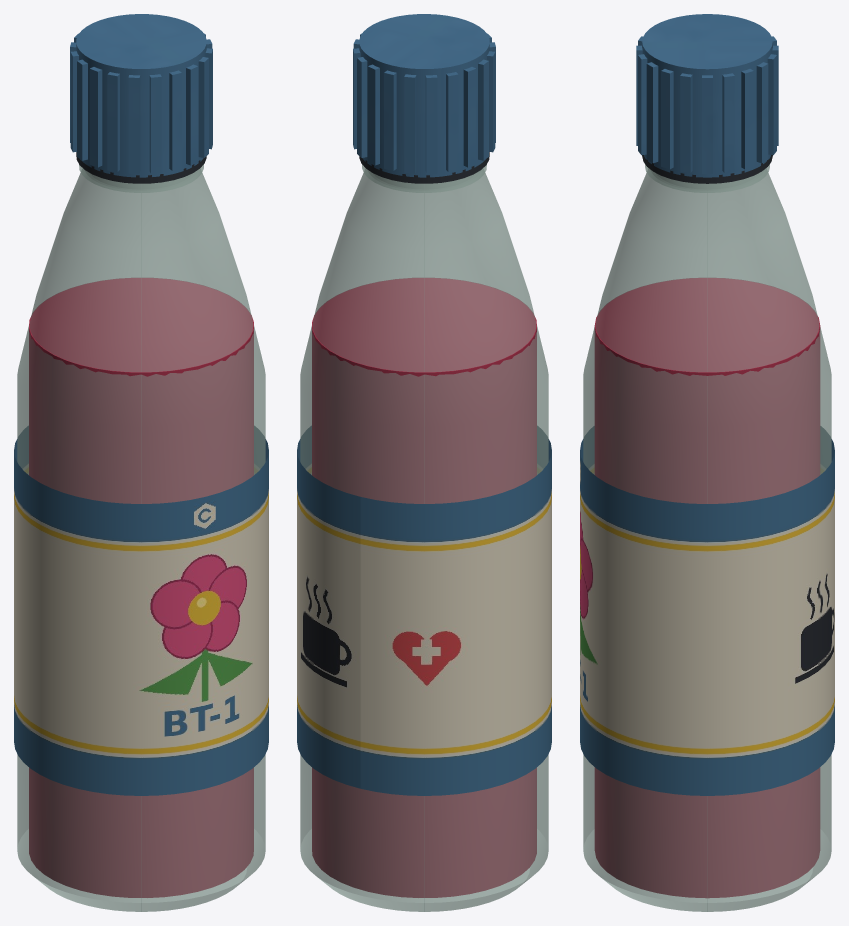
The model's file is bloom_tea.glb.
3 renders of one model, left to right at view 1: azimuth 30°, elevation 25°; view 2: azimuth 150°, elevation 25°; view 3: azimuth 270°, elevation 25°, orthographic.
Visible parts, largest first — view 1: Bottle; view 2: Bottle; view 3: Bottle.
Part boxes in pixels (bbox=[...]): Bottle: bbox=[14, 14, 268, 911]; Bottle: bbox=[297, 14, 551, 911]; Bottle: bbox=[580, 14, 834, 911].
Bounding box in the file's own units: 0.0554 × 0.198 × 0.0554.
Materials: 5 (2 with a texture image).
